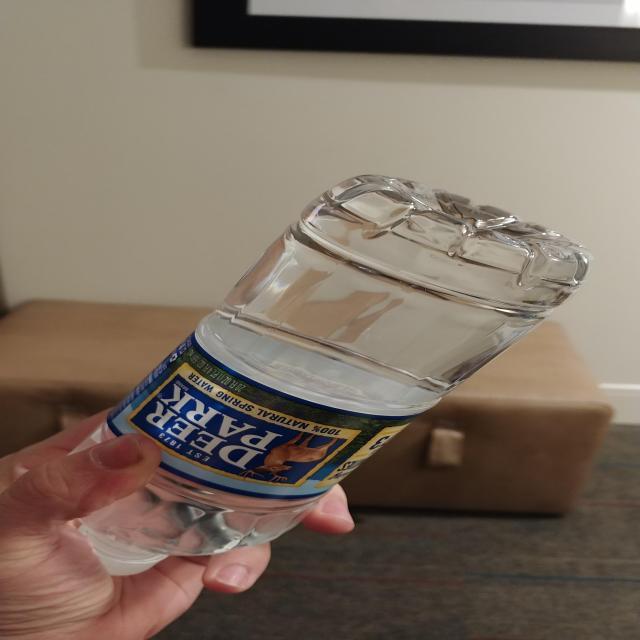plastic bottle: (68, 175, 593, 578)
